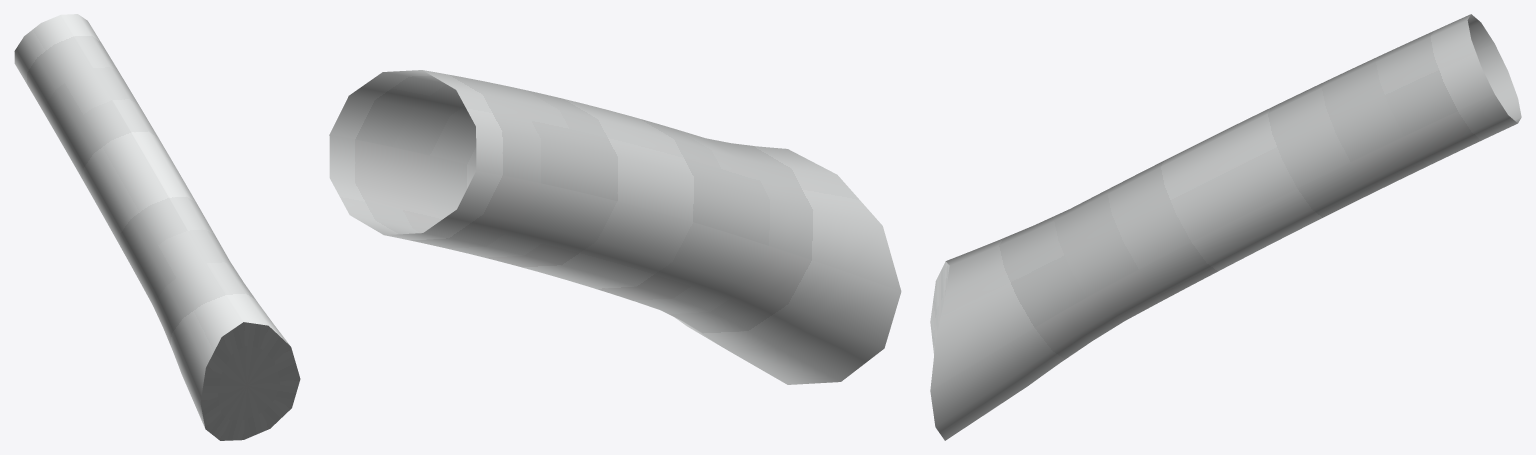
Rendered from luminairearm_caltrans15ft_c0.obj.
The picture shows the model from 3 angles, left to right: view 1: azimuth 30°, elevation 25°; view 2: azimuth 150°, elevation 25°; view 3: azimuth 270°, elevation 25°; orthographic projection. The views are drawn at different scales.
Visible parts, largest first — view 1: luminairearm_caltrans15ft_c0; view 2: luminairearm_caltrans15ft_c0; view 3: luminairearm_caltrans15ft_c0.
Boxes of the visible parts, box(x1,y1,x2,y2) form: luminairearm_caltrans15ft_c0: box(14, 14, 300, 440); luminairearm_caltrans15ft_c0: box(329, 70, 901, 384); luminairearm_caltrans15ft_c0: box(930, 14, 1521, 440).
Size of the model in its own units: 0.3375 by 0.9399 by 1.22.
